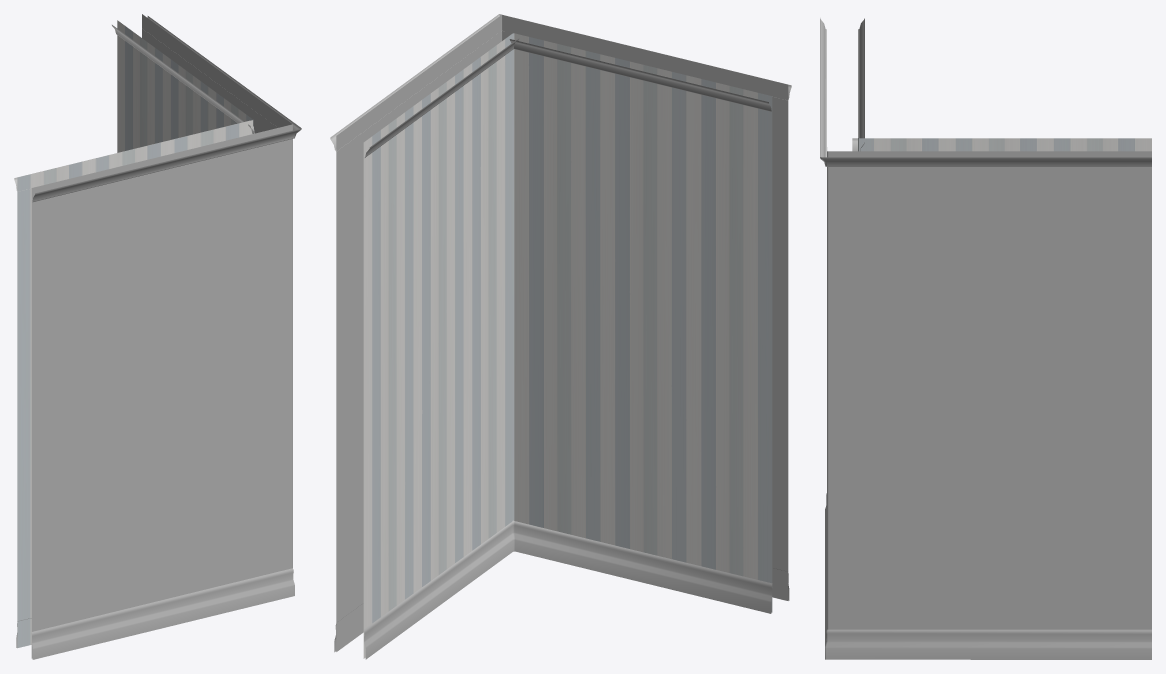
File: Corner_Inside_A.fbx
The picture shows the model from 3 angles, left to right: view 1: azimuth 30°, elevation 25°; view 2: azimuth 150°, elevation 25°; view 3: azimuth 270°, elevation 25°; orthographic projection. The views are drawn at different scales.
Parts seen in each view (by area): view 1: Corner_Inside_A; view 2: Corner_Inside_A; view 3: Corner_Inside_A.
Boxes of the visible parts, x1,y1,x2,y2 form: Corner_Inside_A: [14, 14, 301, 659]; Corner_Inside_A: [330, 14, 791, 659]; Corner_Inside_A: [820, 18, 1151, 659].
Bounding box in the file's own units: 150 × 253 × 150.
